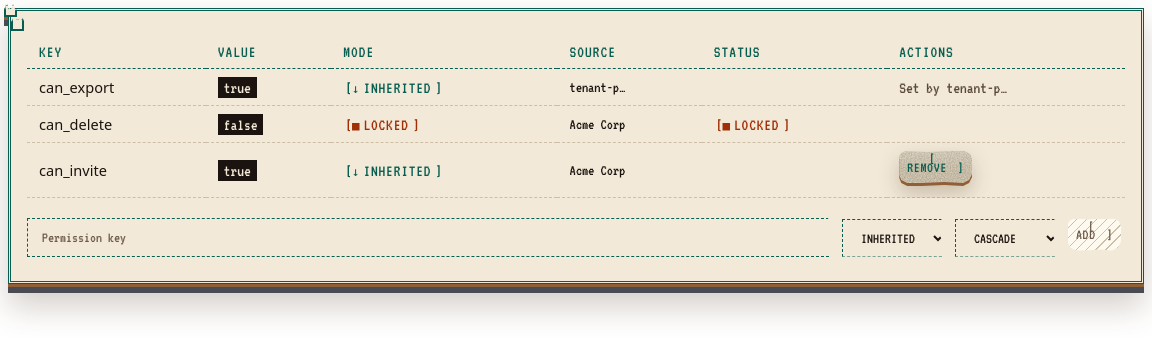
it: PermissionEditor remove › asks for confirmation and sends no request on the first click
expect the text "can_invite" is shown: met, box x1=27 y1=142 x2=206 y2=198
Step 1. Click the button "Remove" → (936, 167), box x1=899 y1=151 x2=972 y2=183
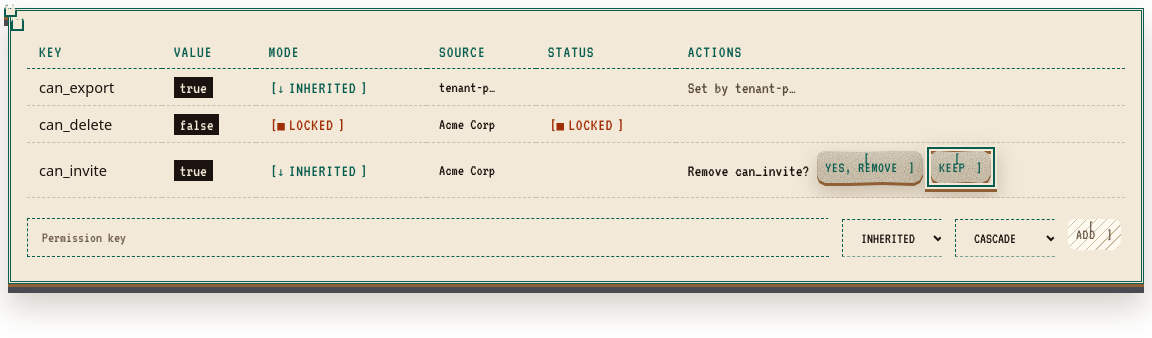
expect the text "Remove can_invite?" is shown: met, box x1=688 y1=162 x2=809 y2=178
